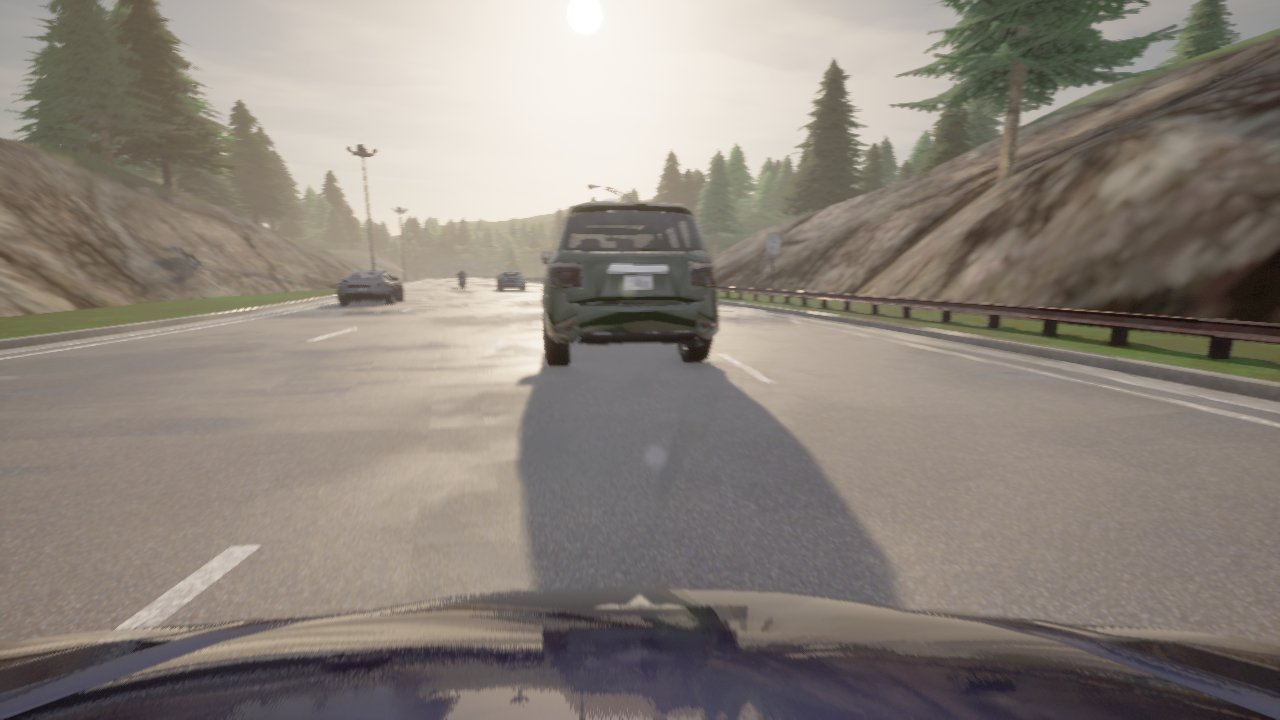cyclist: (0, 588, 1279, 719), (541, 201, 718, 366), (337, 270, 403, 304), (497, 270, 525, 290), (459, 275, 465, 287)
